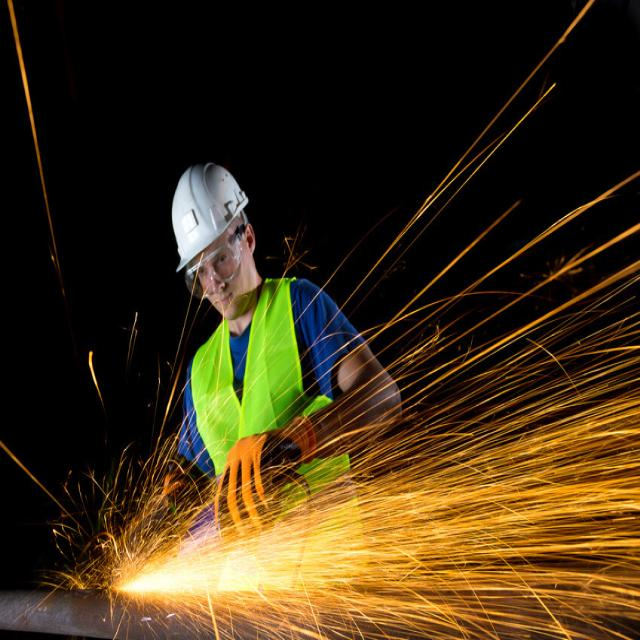goggles: (181, 244, 253, 294)
helmet: (161, 142, 257, 260)
vest: (177, 302, 327, 479)
